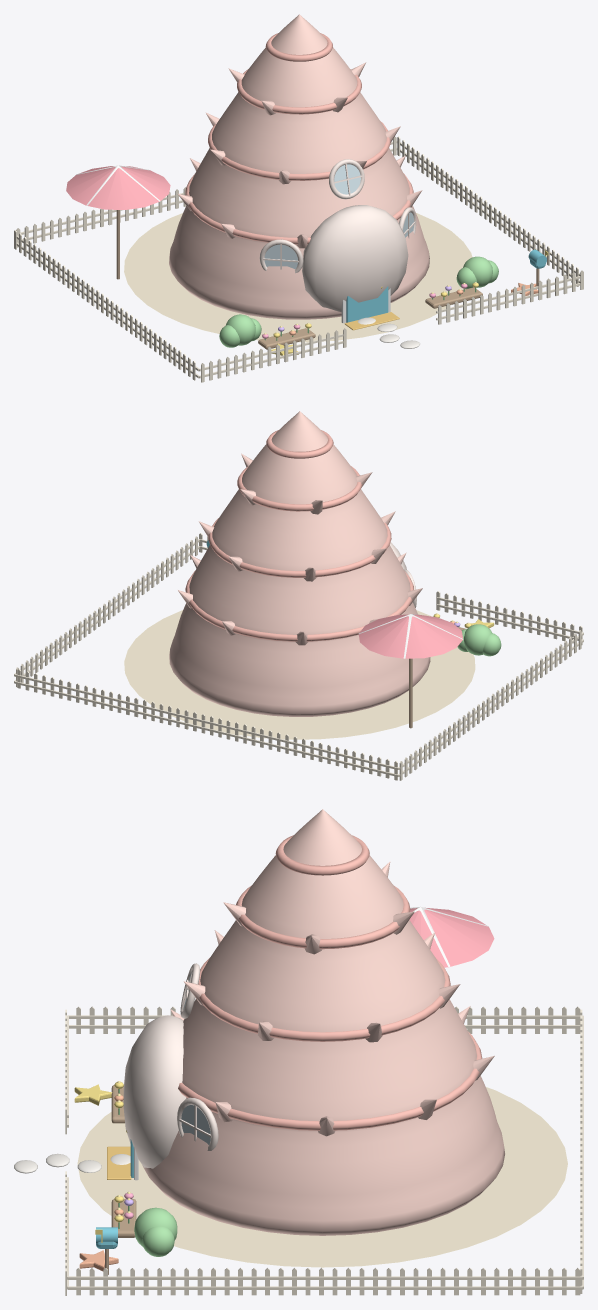
File: building_ocean_L08.glb
3 views of the same model, one above another, from view 1: azimuth 30°, elevation 25°; view 2: azimuth 150°, elevation 25°; view 3: azimuth 270°, elevation 25° (orthographic). The views are drawn at different scales.
Visible parts, largest first — view 1: Body, ocean_L8; view 2: Body, ocean_L8; view 3: Body, ocean_L8.
Boxes of the visible parts, bbox=[...] form: Body: bbox=[66, 14, 538, 358]; ocean_L8: bbox=[14, 136, 583, 382]; Body: bbox=[124, 411, 494, 739]; ocean_L8: bbox=[14, 533, 583, 780]; Body: bbox=[74, 809, 567, 1271]; ocean_L8: bbox=[14, 1006, 583, 1295].
Size of the model in its own units: 25.35 by 16.4 by 23.24.
